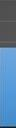bar: (0, 44, 16, 52)
